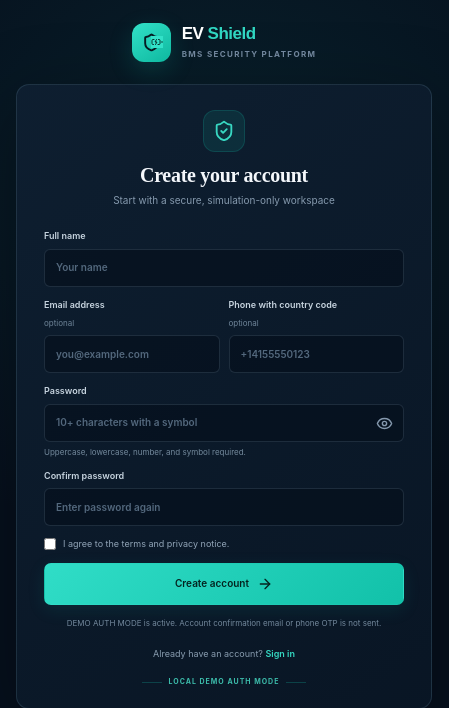
Test: EV Shield UI › shows sign-up validation when neither email nor phone is provided
Check: the heading "Create your account" is shown, box x1=140 y1=164 x2=308 y2=186
In the field labelled "Full name": {"x": 224, "y": 268} x1=44 y1=248 x2=404 y2=286, type "Demo User"
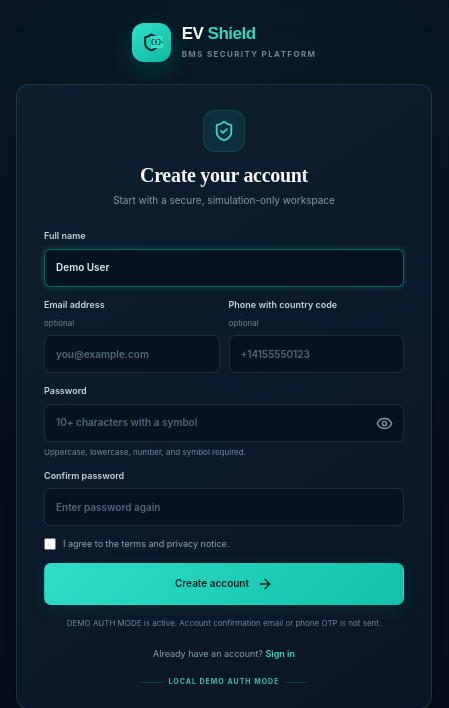
In the password field with placeholder "10+ characters with a symbol": {"x": 224, "y": 422} x1=44 y1=404 x2=404 y2=442, type "Strong@Pass2026"
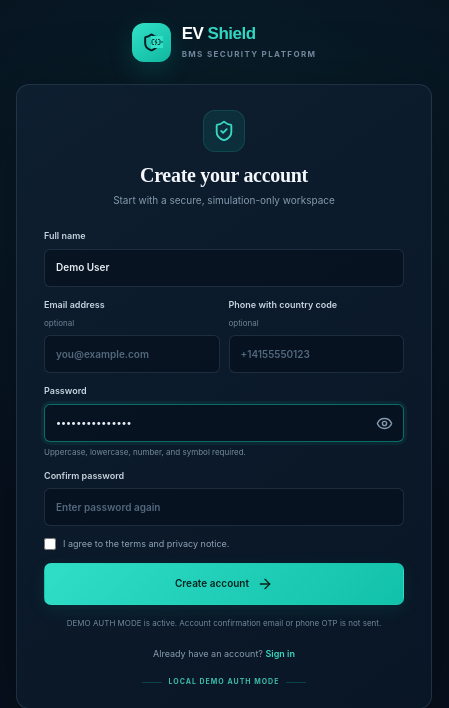
In the password field labelled "Confirm password": {"x": 224, "y": 507} x1=44 y1=488 x2=404 y2=526, type "Strong@Pass2026"
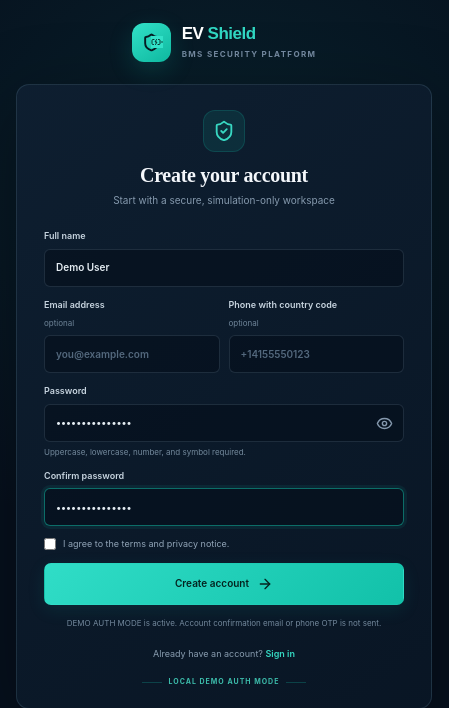
Click the checkbox labelled "I agree to the terms and privacy notice.": {"x": 50, "y": 544} x1=44 y1=538 x2=56 y2=550
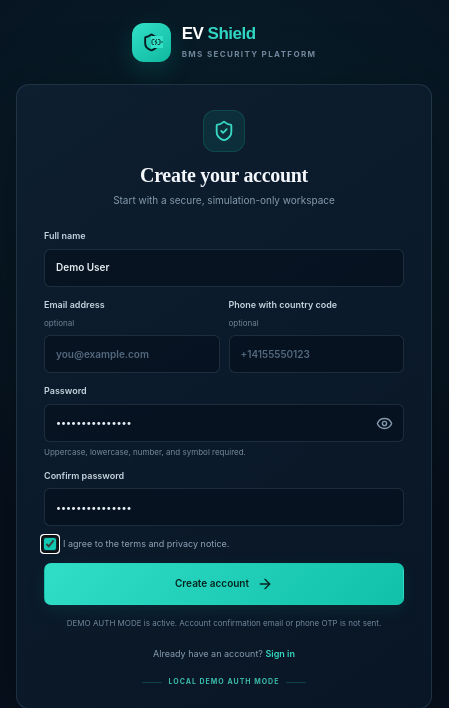
Click the button "Create account": {"x": 224, "y": 584} x1=44 y1=562 x2=404 y2=604
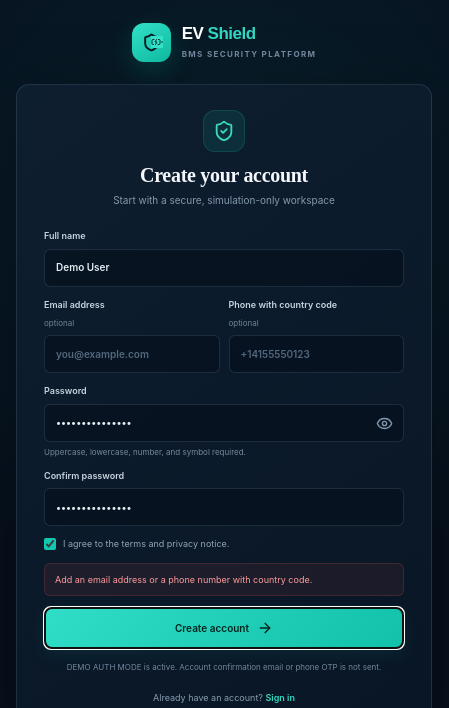
Check: the message shows "Add an email address or a phone number", box x1=55 y1=574 x2=312 y2=584
